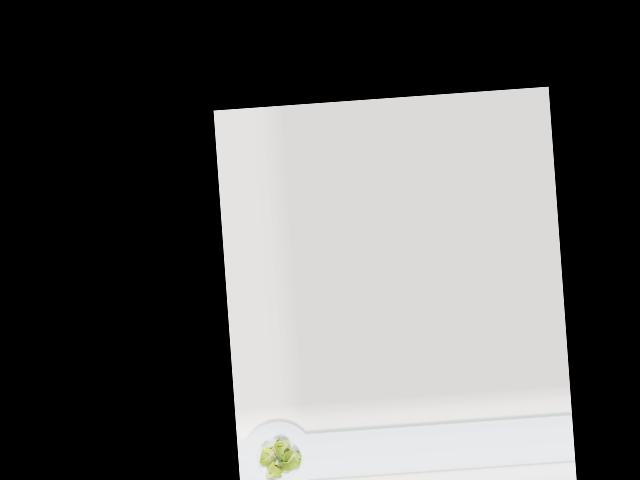lettuce: (258, 435, 306, 480)
